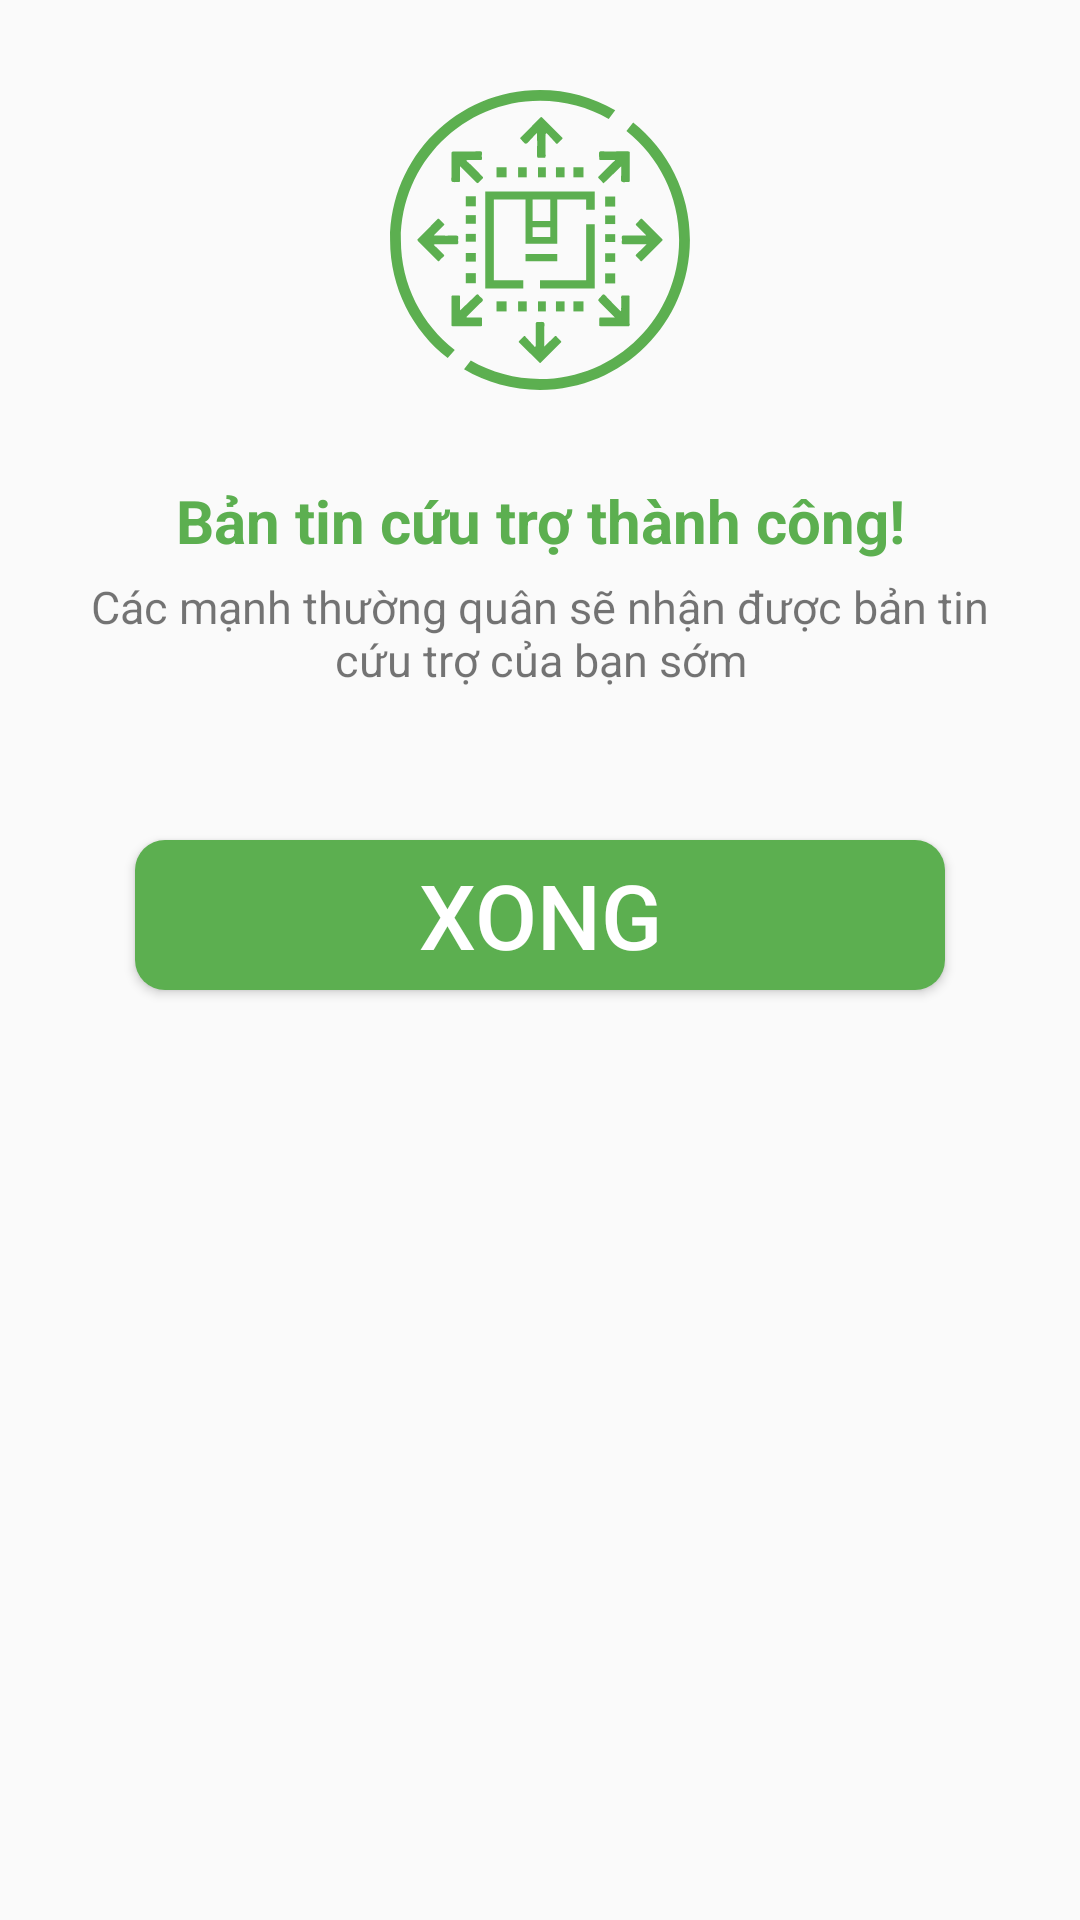

Screen size 1080px x 1920px. Icon name, then its box in pixels as box=[x1, y1, x2, y2]:
distribution: box=[390, 90, 690, 390]
